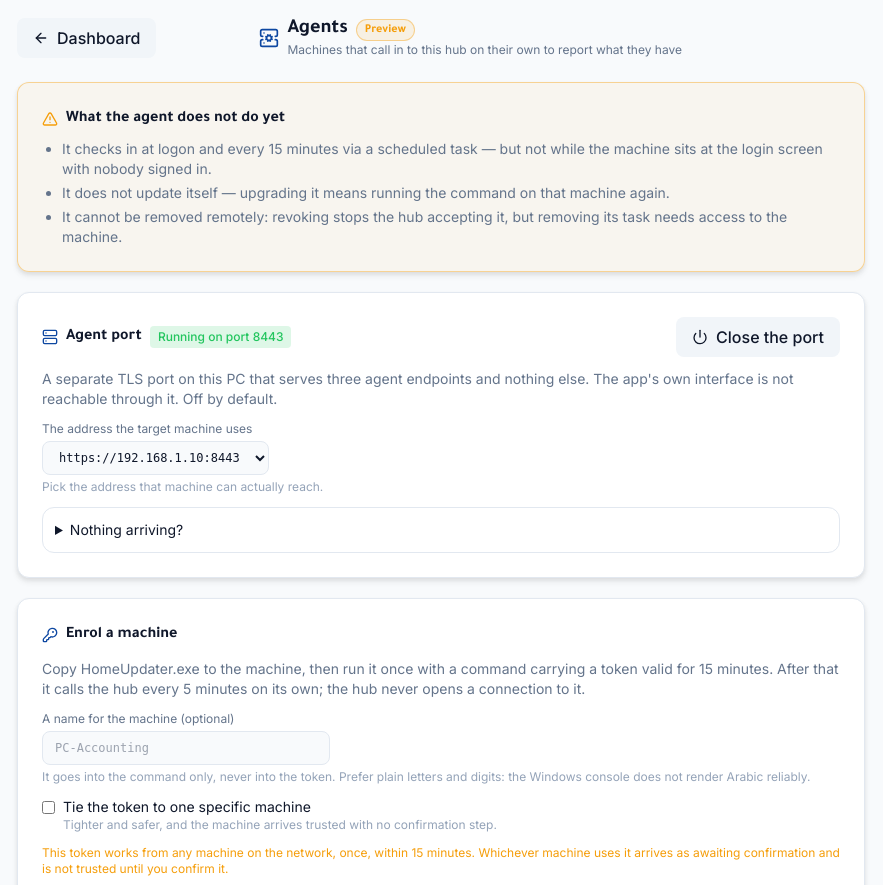
Scenario: minting a token › builds the command with the chosen address and the name
Expected: the element with test id "listener-ready" is shown, left=17, top=292, right=865, bottom=578
Type "PC-Reception" into the field labelled "A name for the machine (optional)". click: (186, 748)
box: left=42, top=731, right=330, bottom=765
(page scrolled)
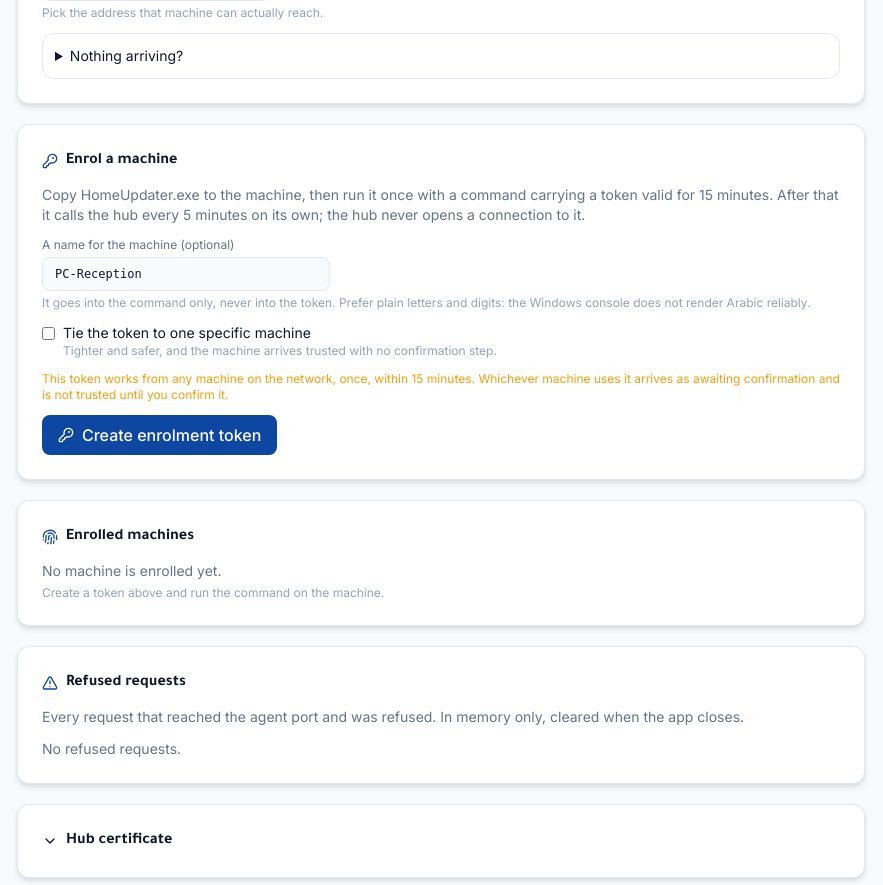
Click the button "Create enrolment token". click: (160, 435)
box: left=42, top=415, right=277, bottom=455
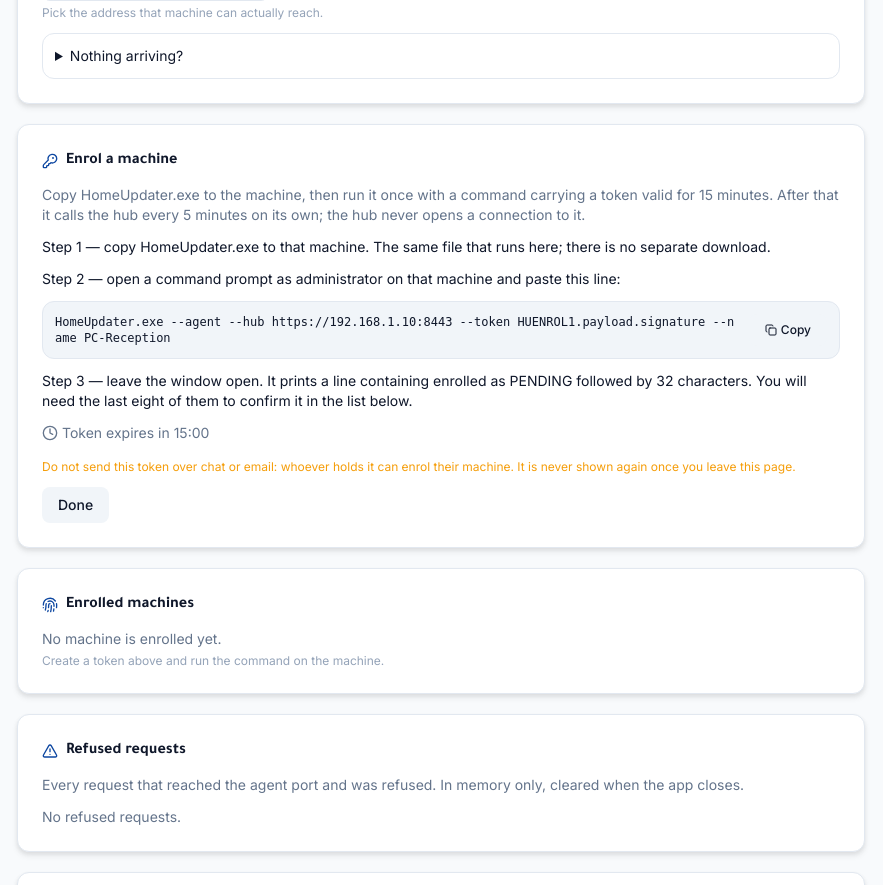
Now the text "HomeUpdater.exe --agent" shows "--hub https://192.168.1.10:8443", box left=55, top=315, right=734, bottom=345
Now the text "HomeUpdater.exe --agent" shows "--token HUENROL1.payload.signature", box left=55, top=315, right=734, bottom=345
Now the text "HomeUpdater.exe --agent" shows "--name PC-Reception", box left=55, top=315, right=734, bottom=345
